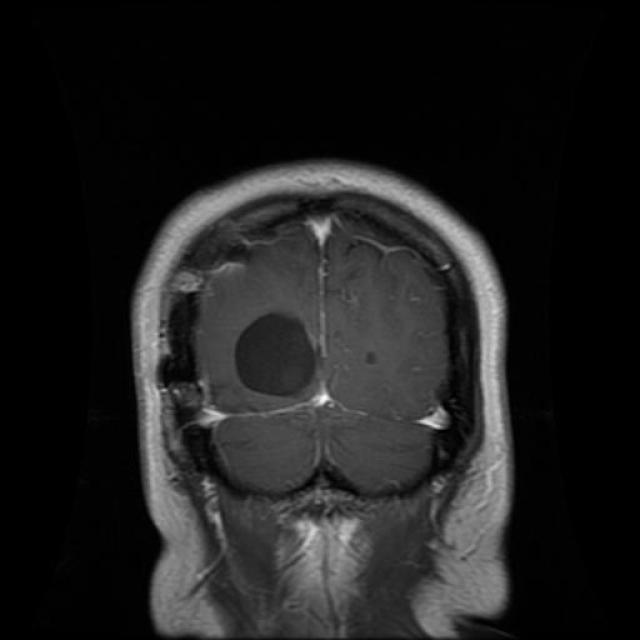glioma: (222, 307, 326, 405)
